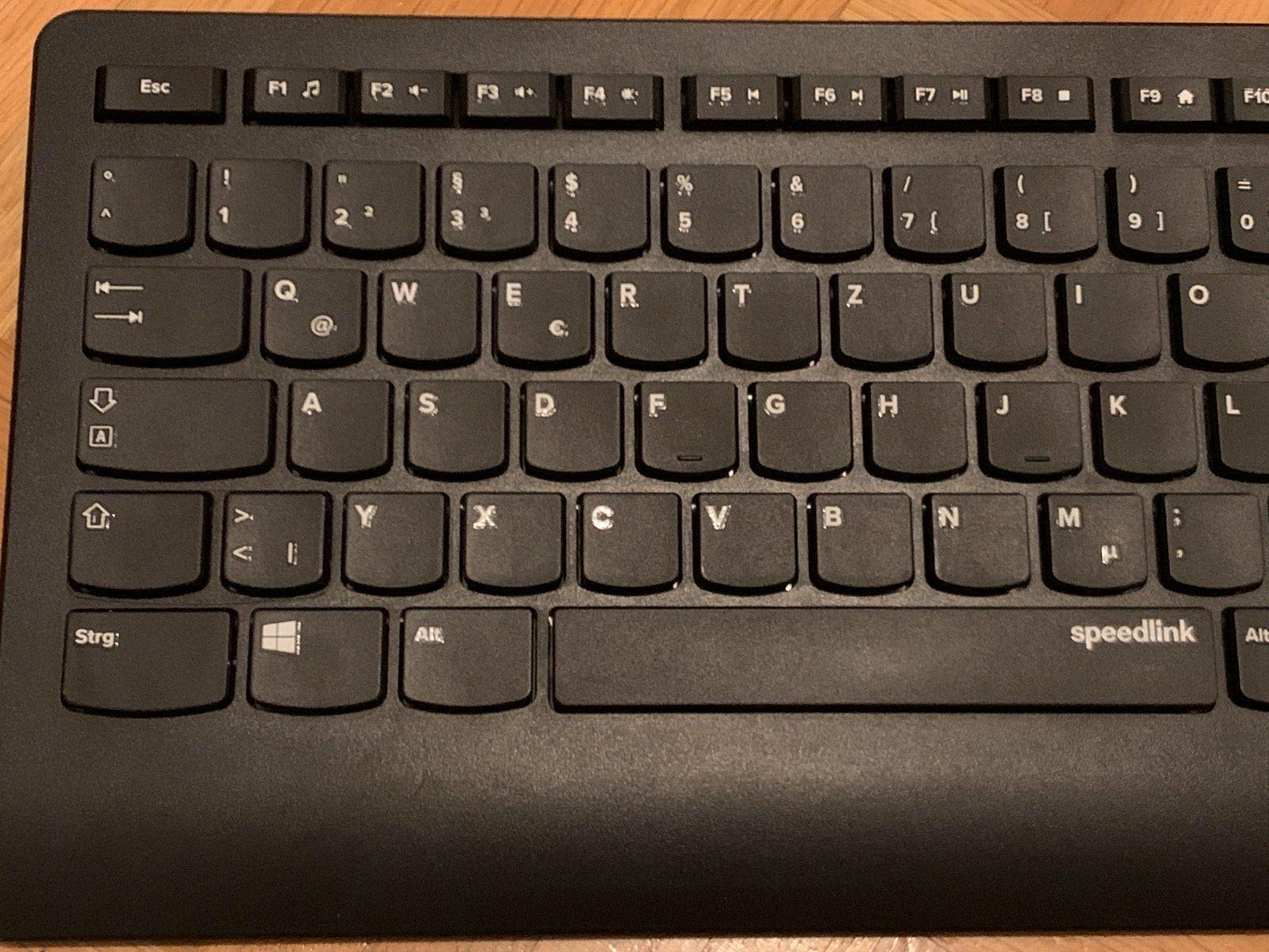0: (1221, 157, 1266, 255)
1: (203, 153, 308, 249)
2: (317, 155, 424, 251)
3: (431, 157, 538, 254)
4: (546, 159, 650, 255)
5: (658, 159, 761, 255)
6: (769, 159, 874, 255)
7: (884, 159, 987, 256)
8: (995, 159, 1098, 256)
9: (1106, 159, 1211, 255)
a: (284, 373, 393, 475)
alt-left: (394, 601, 538, 709)
altgr-right: (1228, 605, 1267, 703)
b: (806, 486, 914, 589)
c: (572, 486, 681, 589)
caret: (85, 152, 192, 248)
comma: (1158, 487, 1262, 591)
d: (516, 374, 623, 474)
e: (489, 266, 594, 364)
f: (631, 376, 738, 477)
g: (746, 374, 853, 476)
h: (861, 375, 968, 475)
i: (1057, 266, 1161, 363)
j: (977, 374, 1083, 478)
k: (1091, 374, 1198, 477)
keyboard: (21, 24, 1263, 763)
l: (1211, 372, 1264, 473)
less: (215, 486, 329, 592)
m: (1038, 486, 1148, 589)
n: (922, 487, 1030, 589)
o: (1171, 261, 1264, 365)
q: (255, 262, 366, 363)
r: (602, 266, 708, 363)
s: (400, 373, 507, 475)
shift-left: (62, 486, 208, 590)
shift-lock: (69, 371, 274, 474)
space: (540, 601, 1217, 709)
strg-left: (55, 603, 234, 714)
t: (717, 266, 821, 363)
tab: (75, 259, 247, 361)
u: (943, 266, 1049, 364)
v: (689, 486, 798, 589)
w: (374, 264, 480, 363)
x: (457, 487, 565, 590)
y: (337, 486, 447, 590)
z: (829, 266, 934, 365)
